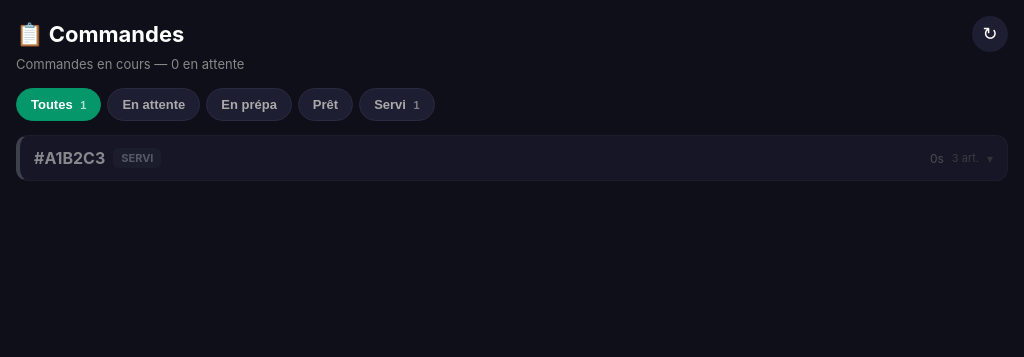
Test: OrdersList.vue › item details › affiche le compteur d elements et la note dans le detail etendu
The image size is (1024, 357).
Click the element with class "order-card" at (512, 158), box left=16, top=135, right=1008, bottom=181
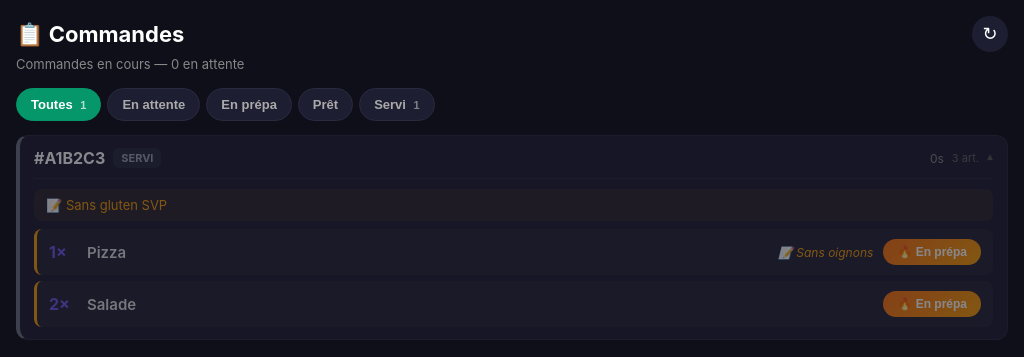
expect the text "Pizza" is shown: met, box left=87, top=242, right=126, bottom=262
expect the text "Sans gluten" is shown: met, box left=46, top=197, right=167, bottom=213
